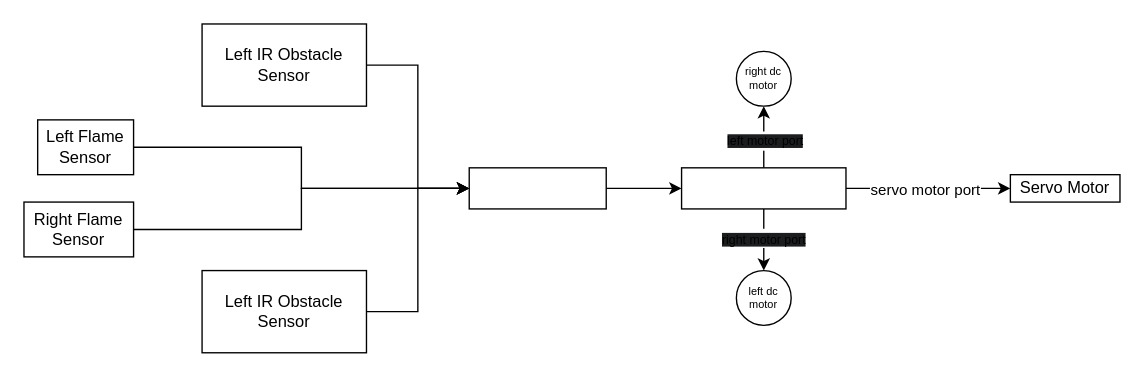
This 1144x377 diagram has some shape labels left out. Here are the shapes that lost their labels. From the top down, the centre of each, then its label:
At (x=537, y=187): "Arduino Uno R3".
At (x=763, y=187): "H-bridge Shield".
